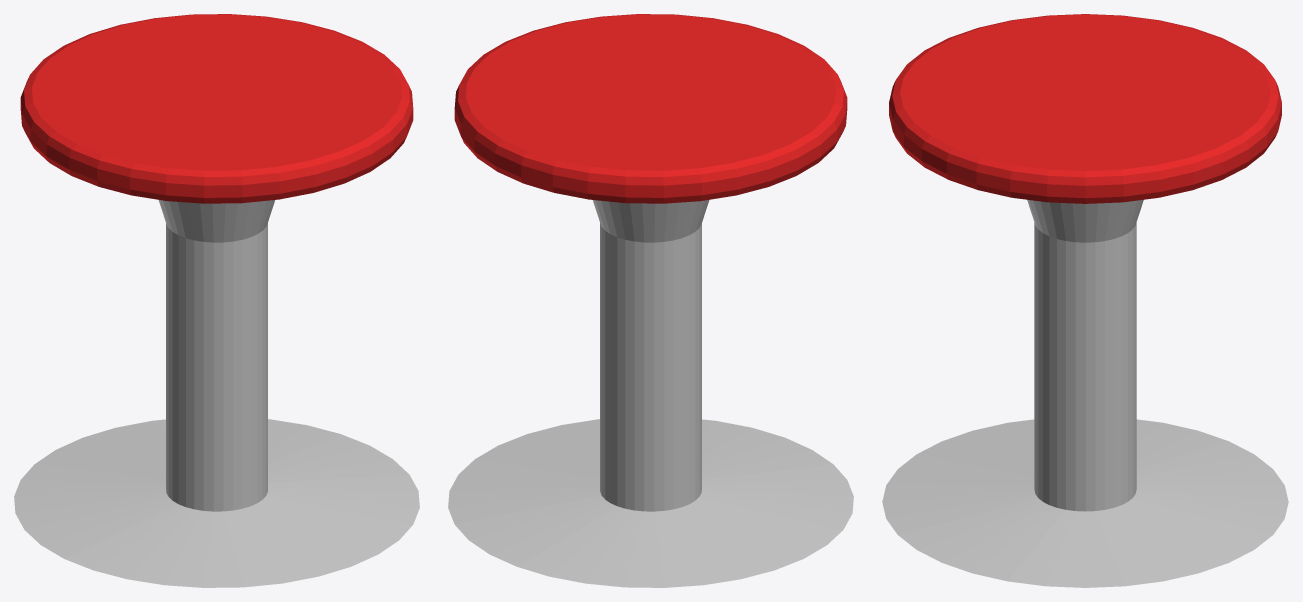
The model's file is Chair.glb.
3 views of the same model, side by side, from view 1: azimuth 30°, elevation 25°; view 2: azimuth 150°, elevation 25°; view 3: azimuth 270°, elevation 25° (orthographic).
Visible parts, largest first — view 1: Circle; view 2: Circle; view 3: Circle.
Part boxes in pixels (left/top/right/bottom): Circle: left=14, top=14, right=419, bottom=587; Circle: left=448, top=14, right=853, bottom=587; Circle: left=882, top=14, right=1288, bottom=587.
Bounding box in the file's own units: 2.07 × 2.3 × 2.07.
